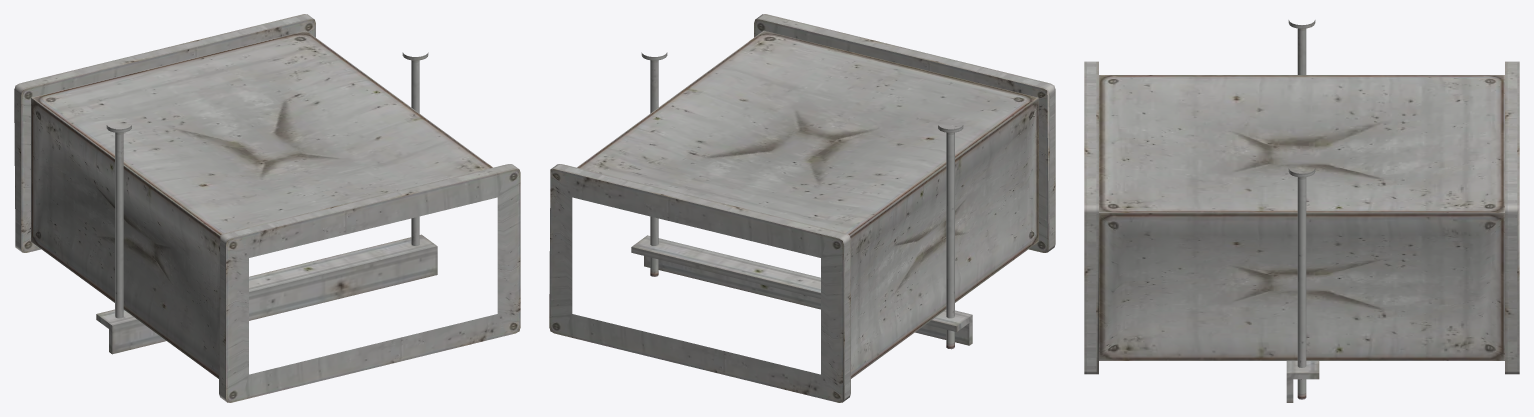
The model's file is vent_large_duct_slim_a.glb.
3 renders of one model, left to right at view 1: azimuth 30°, elevation 25°; view 2: azimuth 150°, elevation 25°; view 3: azimuth 270°, elevation 25°, orthographic. The views are drawn at different scales.
Parts seen in each view (by area): view 1: vent_large_duct_slim_a; view 2: vent_large_duct_slim_a; view 3: vent_large_duct_slim_a.
Boxes of the visible parts, left/top/right/bottom form: vent_large_duct_slim_a: left=14, top=14, right=520, bottom=402; vent_large_duct_slim_a: left=549, top=14, right=1055, bottom=402; vent_large_duct_slim_a: left=1084, top=20, right=1519, bottom=402.
Bounding box in the file's own units: 0.8869 × 0.5822 × 1.
1 material, 1 textured.
